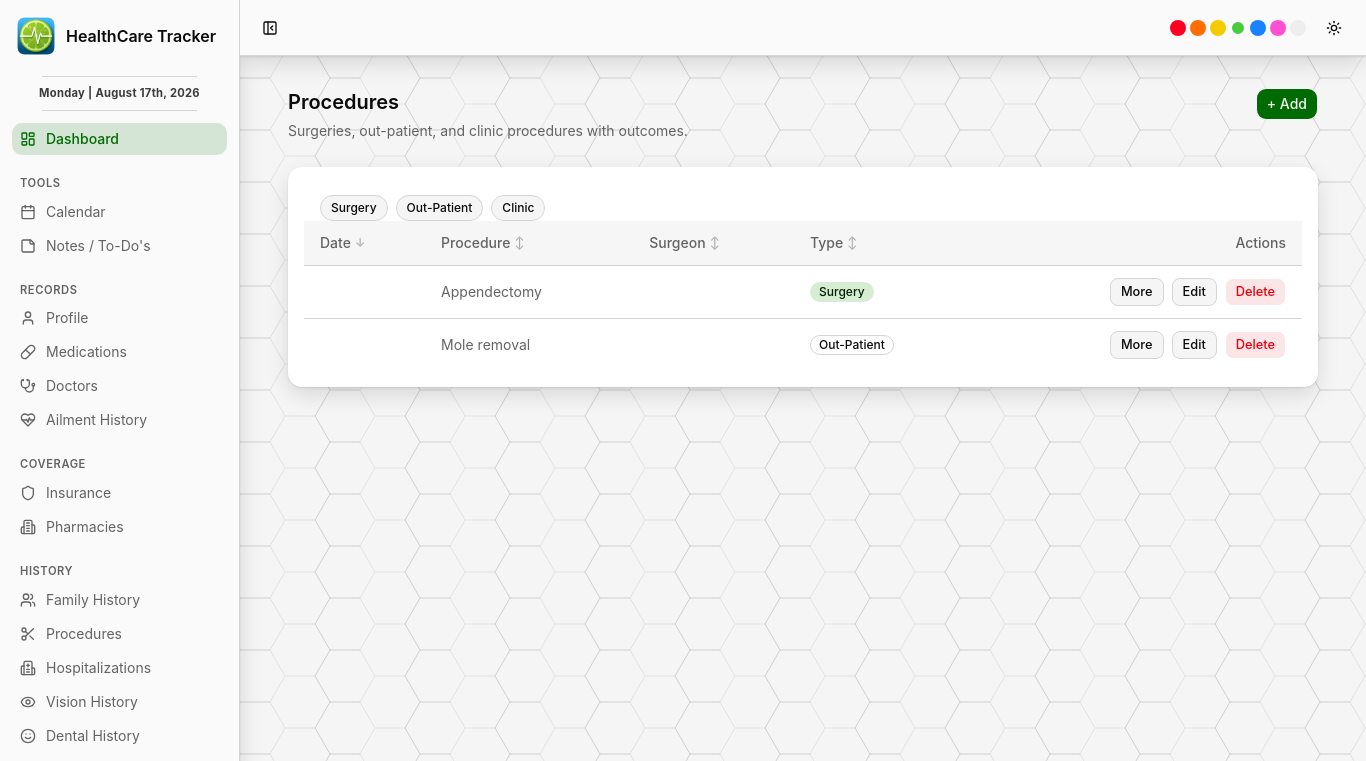
Test case: SurgeriesPage — Procedures › type badge renders and pills filter rows
Click the button "Out-Patient" at point(440, 208), box x1=396 y1=195 x2=483 y2=221
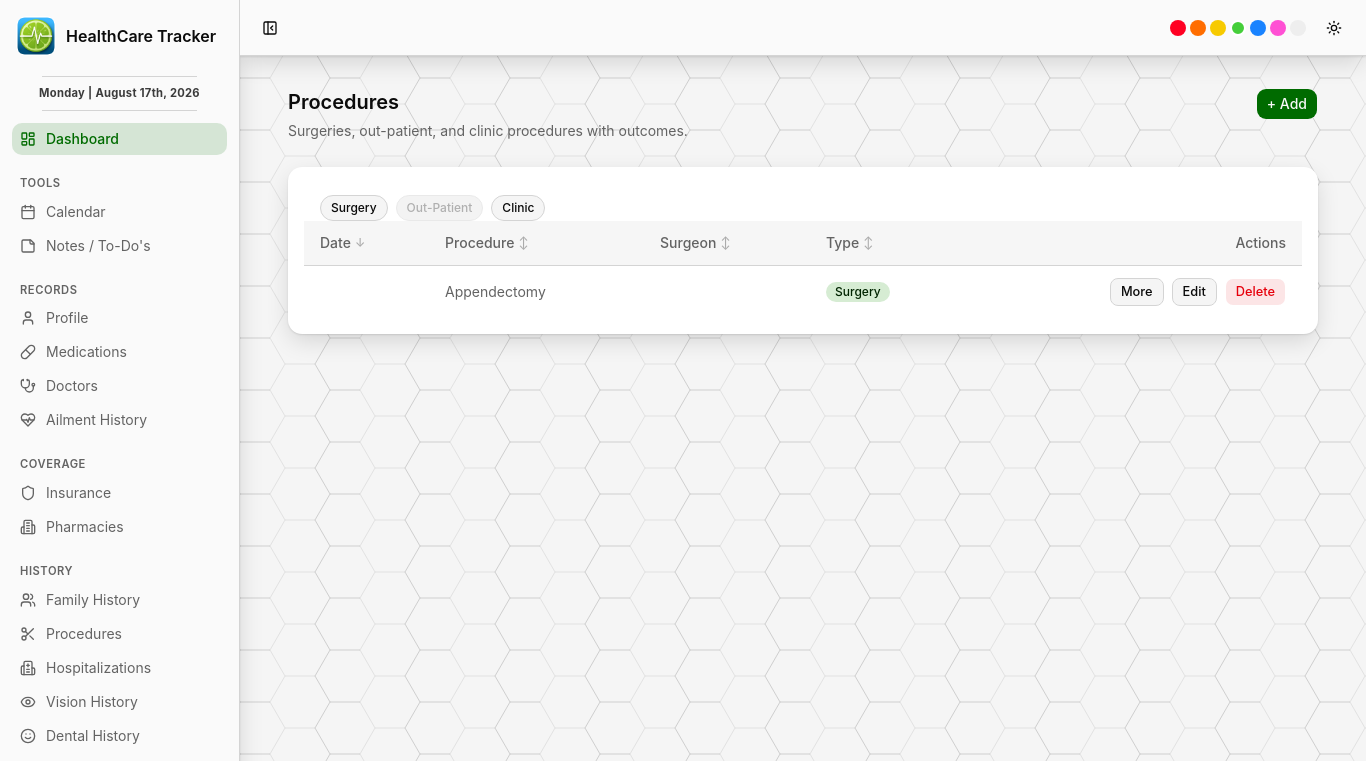
Now the text "Mole removal" is not shown
